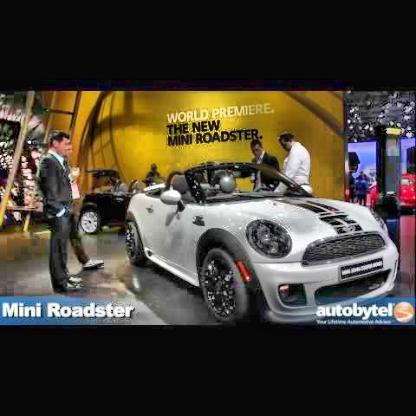MINI Cooper Roadster Convertible 2012: (125, 163, 400, 326)
